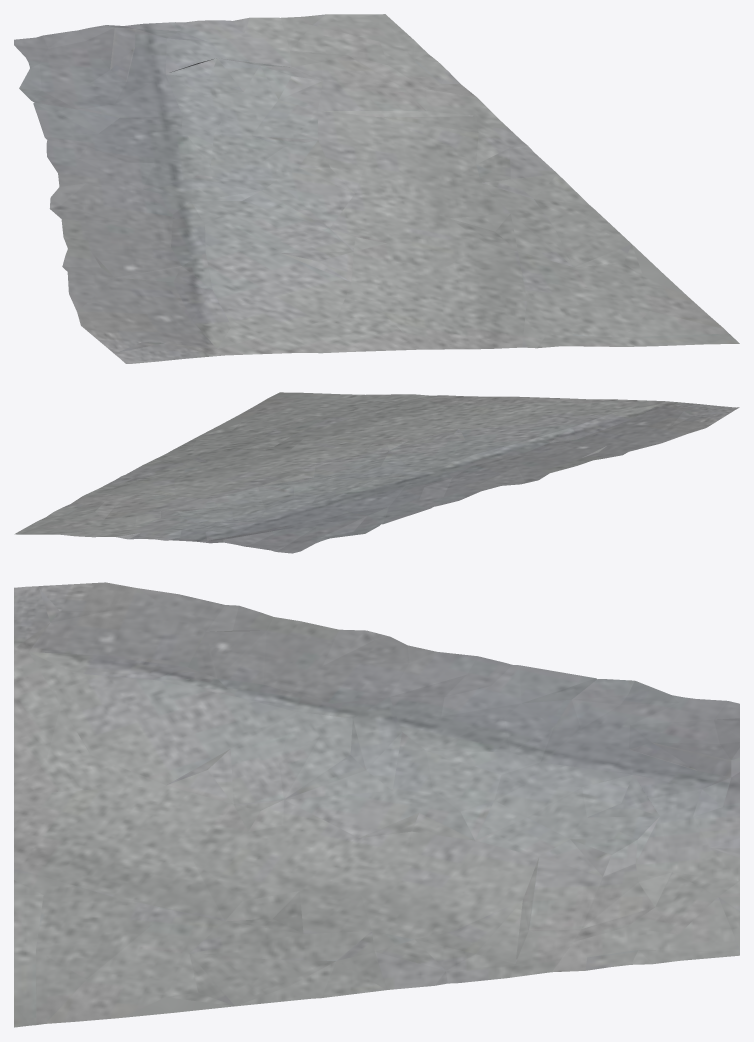
3 views of the same model, one above another, from view 1: azimuth 30°, elevation 25°; view 2: azimuth 150°, elevation 25°; view 3: azimuth 270°, elevation 25° (orthographic). The views are drawn at different scales.
Size of the model in its own units: 3.35 by 0.7043 by 3.35.
Materials: 2 (2 with a texture image).
